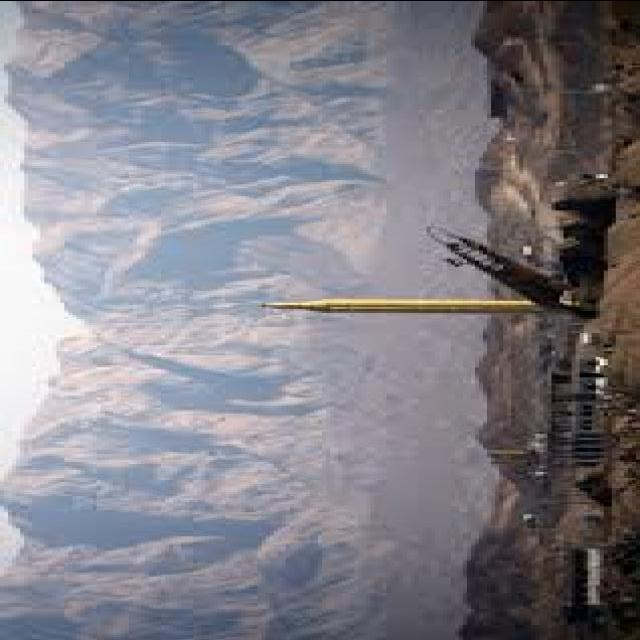missile: (256, 293, 536, 319)
